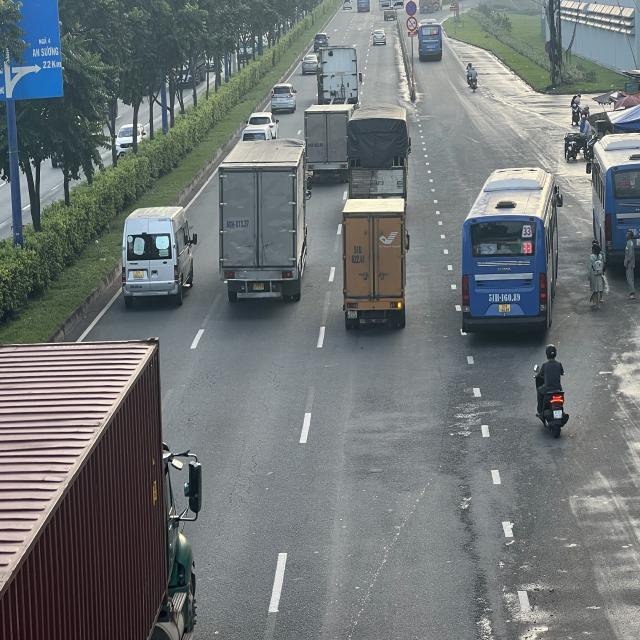coach: (462, 165, 561, 333), (588, 137, 638, 278), (416, 19, 442, 61)
container: (0, 335, 198, 637), (321, 45, 363, 106)
truck: (220, 141, 312, 304), (340, 200, 408, 328), (346, 104, 408, 202), (304, 102, 351, 180)
van: (121, 204, 197, 308)
